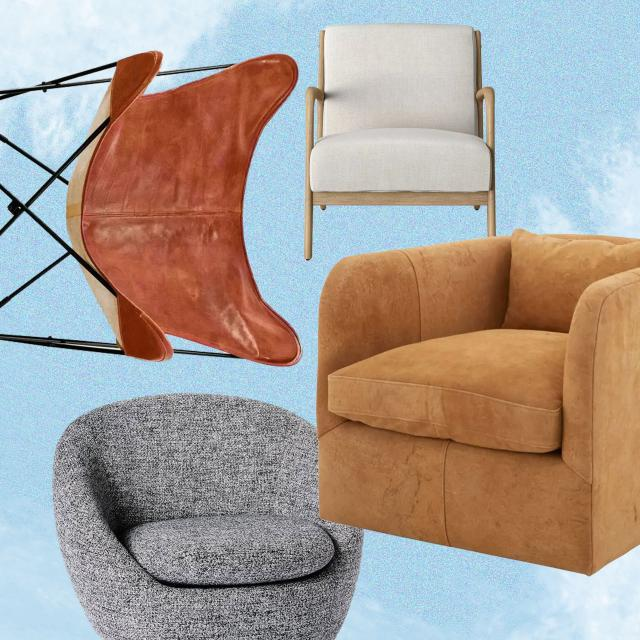chair: (297, 221, 640, 634), (0, 34, 305, 400), (35, 381, 377, 640), (292, 12, 530, 284)
